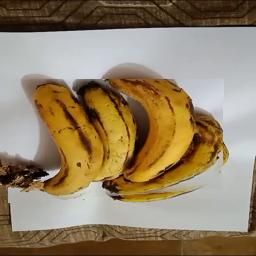Banana Semifresh: (9, 79, 225, 203)
